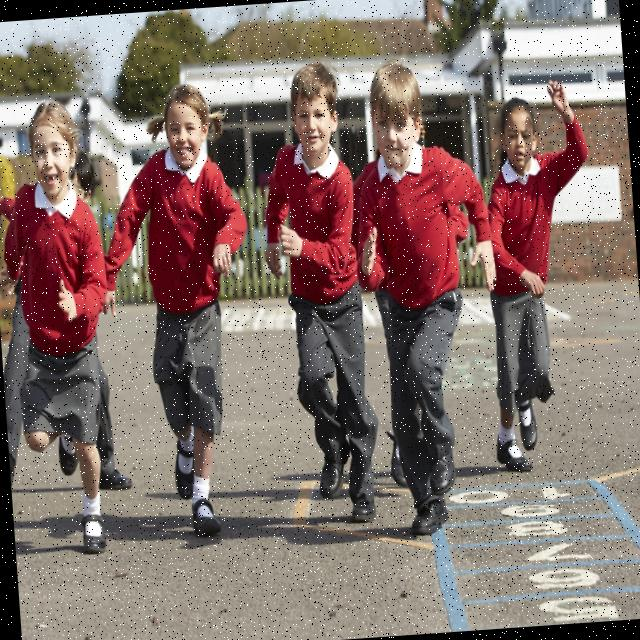Person: (344, 55, 515, 540), (93, 78, 270, 542), (250, 59, 386, 534), (0, 94, 126, 559), (470, 73, 612, 473)
